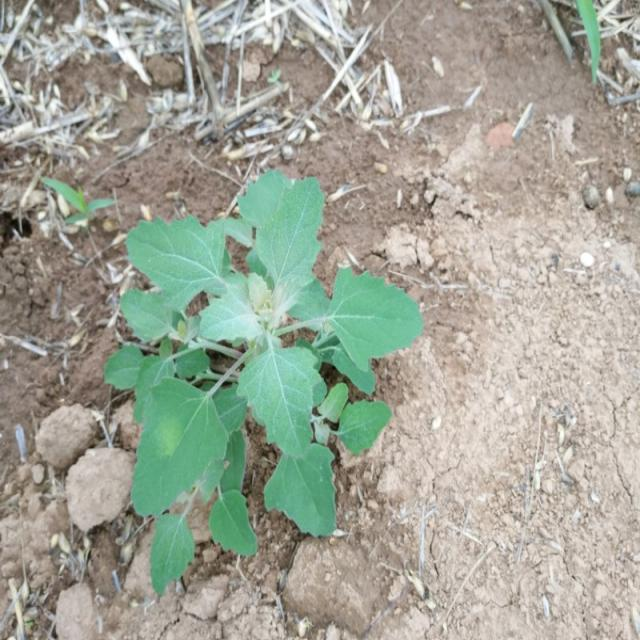goosefoots: (117, 165, 395, 577)
